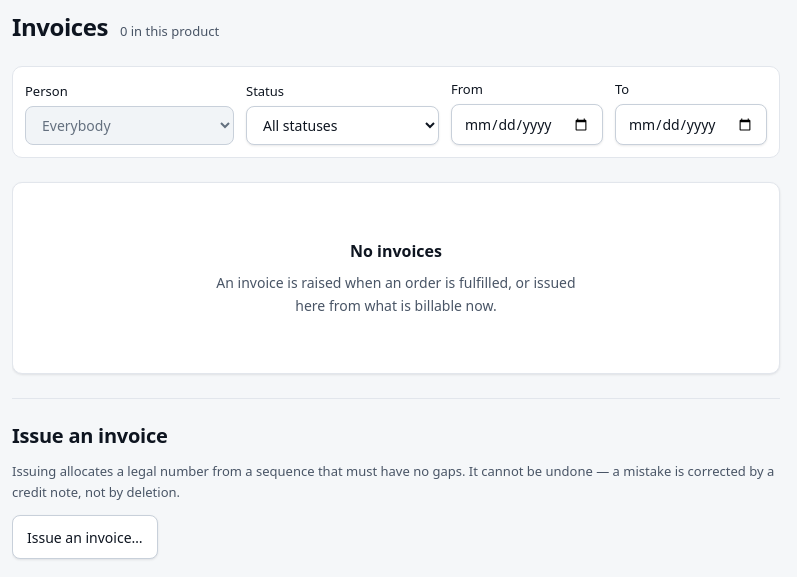
issuing an invoice › shows the number the server allocated, once it has
What coordinates should you click on to do the following:
click the button "Issue an invoice…"
I would click on:
 (85, 537)
Its box is [12,515,158,559].
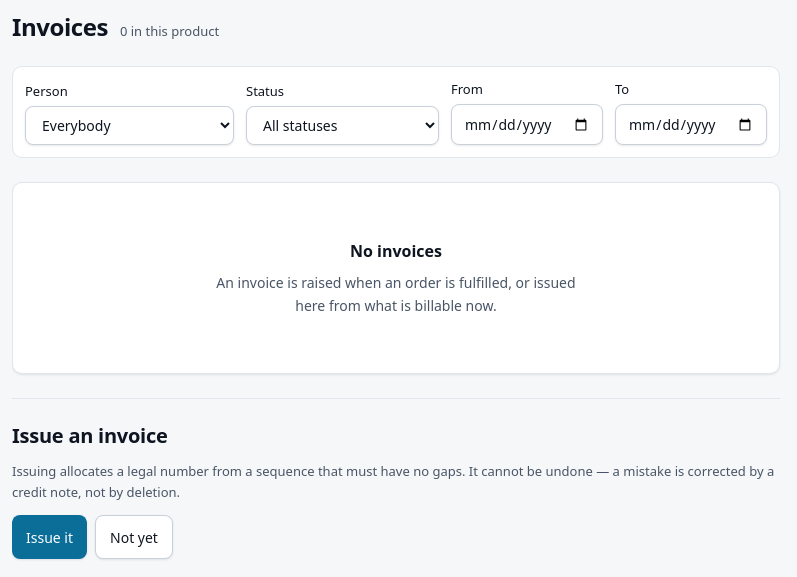
What coordinates should you click on to do the following:
click the button "Issue it"
I would click on:
 (50, 537)
Its box is [12,515,87,559].
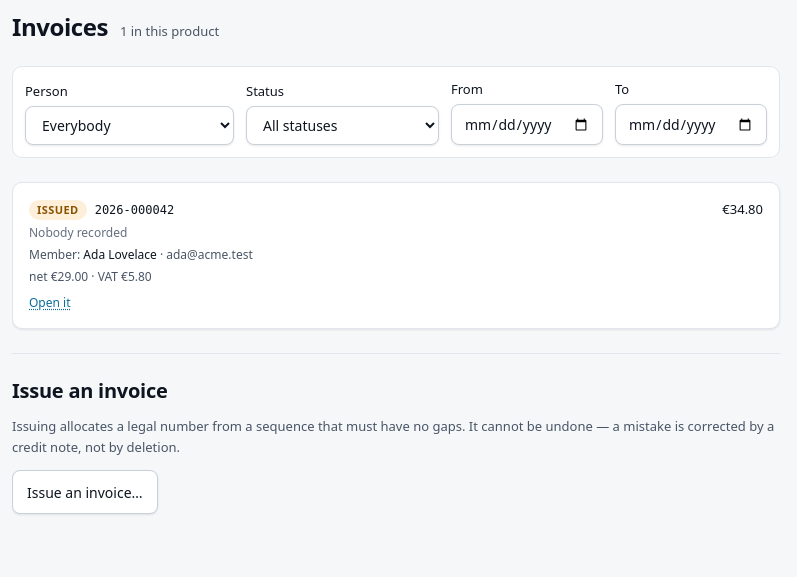
Expected: the text with test id "invoice-number" reads "2026-000042", [95,202,174,216]
